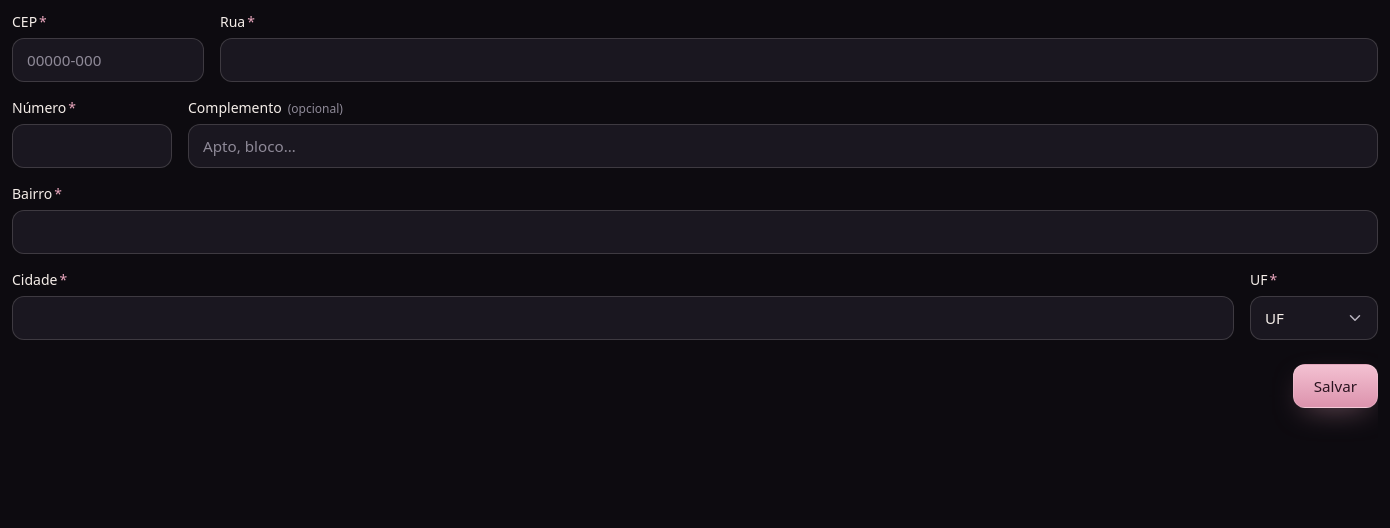
Test: AddressForm › informa CEP não encontrado e permite preencher manualmente
In the field labelled "CEP*": (108, 60) [12,38,204,82], type "99999999"
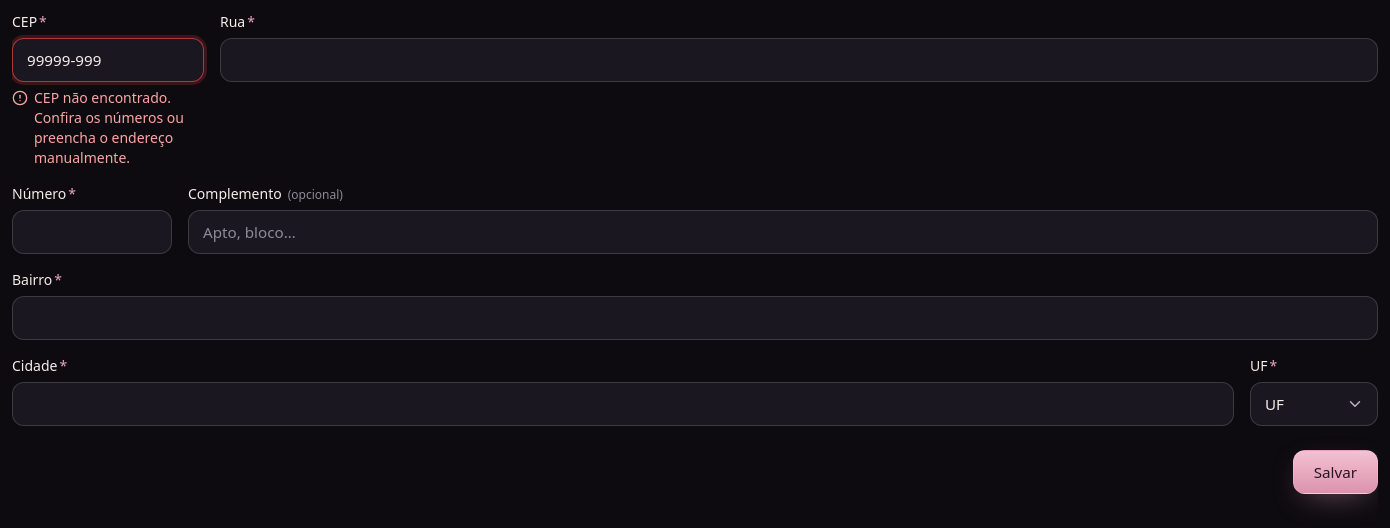
expect the text "CEP não encontrado. Confira os números" is shown: met, box [34,88,184,167]
